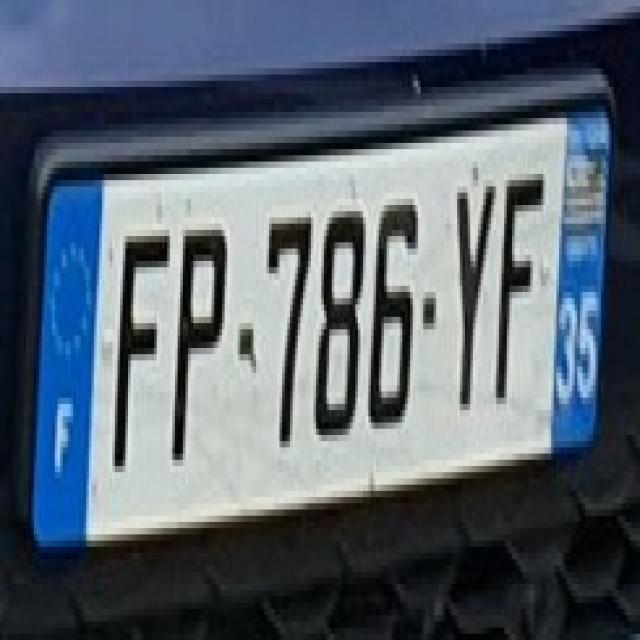EU: (30, 114, 602, 545)
France: (25, 180, 106, 552)
